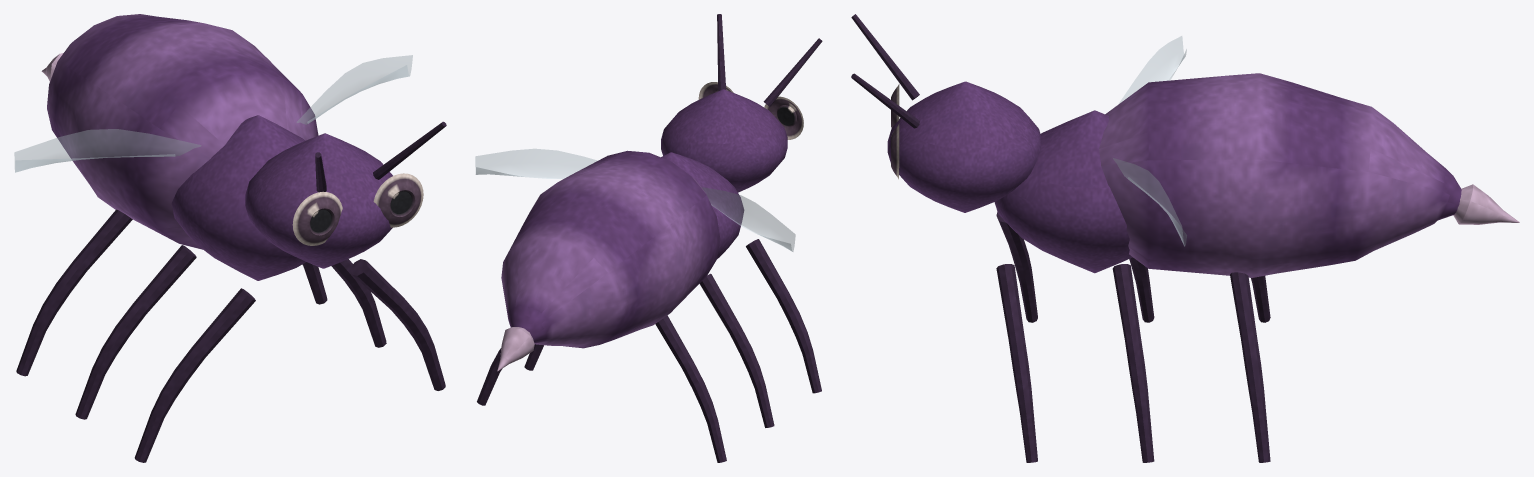
The model's file is sp_dokubarimushi-dm02hq8f.glb.
The picture shows the model from 3 angles, left to right: view 1: azimuth 30°, elevation 25°; view 2: azimuth 150°, elevation 25°; view 3: azimuth 270°, elevation 25°; orthographic projection. The views are drawn at different scales.
Visible parts, largest first — view 1: Abdomen, HeadMesh, Legs, Thorax, WingLMesh, WingRMesh, Antennae; view 2: Abdomen, HeadMesh, Legs, WingRMesh, Thorax, WingLMesh, Antennae; view 3: Abdomen, HeadMesh, Thorax, Legs, Antennae, WingLMesh, WingRMesh.
Part boxes in pixels (<box>): Abdomen: <box>41,14,318,249</box>; HeadMesh: <box>245,133,423,268</box>; Legs: <box>16,209,445,462</box>; Thorax: <box>171,115,305,280</box>; WingLMesh: <box>14,129,201,172</box>; WingRMesh: <box>297,55,412,124</box>; Antennae: <box>315,121,446,192</box>; Abdomen: <box>497,150,720,371</box>; HeadMesh: <box>661,82,803,192</box>; Legs: <box>477,239,821,462</box>; WingRMesh: <box>475,148,597,178</box>; Thorax: <box>661,152,744,258</box>; WingLMesh: <box>702,187,795,251</box>; Antennae: <box>717,14,822,106</box>; Abdomen: <box>1099,73,1519,277</box>; HeadMesh: <box>887,81,1040,212</box>; Thorax: <box>994,110,1132,273</box>; Legs: <box>996,212,1270,462</box>; Antennae: <box>851,14,919,128</box>; WingLMesh: <box>1118,36,1186,104</box>; WingRMesh: <box>1113,158,1186,246</box>.
Bounding box in the file's own units: 0.5057 × 0.4295 × 0.7476.
2 materials, 1 textured.
